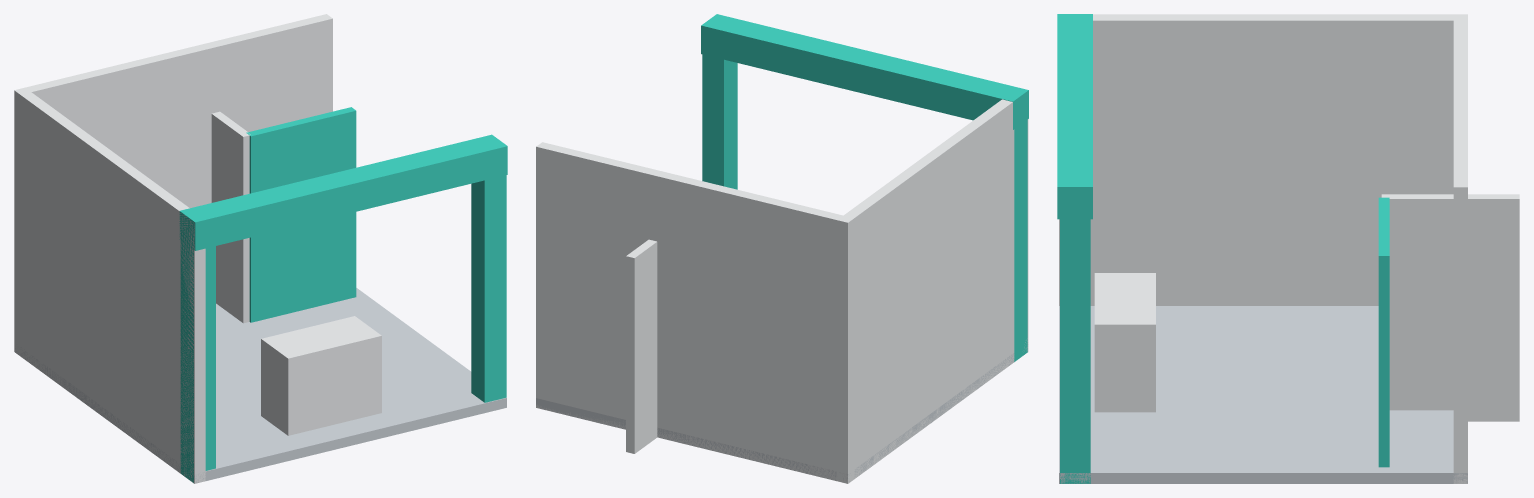
The picture shows the model from 3 angles, left to right: view 1: azimuth 30°, elevation 25°; view 2: azimuth 150°, elevation 25°; view 3: azimuth 270°, elevation 25°; orthographic projection. The views are drawn at different scales.
Visible parts, largest first — view 1: Exhibition Booth Concept; view 2: Exhibition Booth Concept; view 3: Exhibition Booth Concept.
Part boxes in pixels (left/top/right/bottom): Exhibition Booth Concept: left=14, top=14, right=507, bottom=483; Exhibition Booth Concept: left=536, top=14, right=1028, bottom=483; Exhibition Booth Concept: left=1057, top=14, right=1519, bottom=483.
Bounding box in the file's own units: 4 × 3.2 × 4.52.
